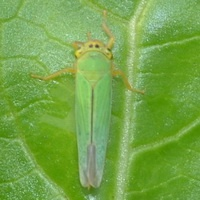insect: (30, 10, 143, 187)
